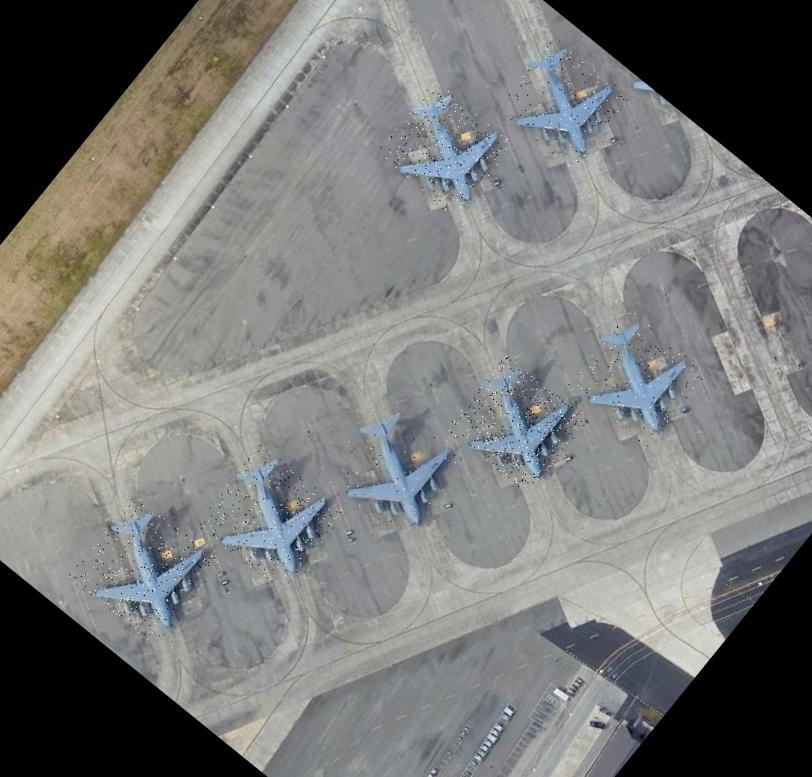A3: (68, 492, 222, 646), (316, 394, 469, 546), (195, 442, 346, 592), (567, 308, 709, 449), (446, 353, 588, 494), (375, 79, 516, 219), (495, 34, 632, 170)
